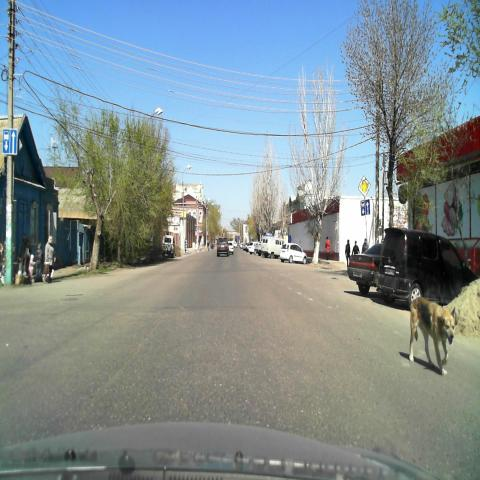2_1: (358, 175, 371, 197)
5_11: (2, 128, 17, 156), (360, 199, 370, 216)
